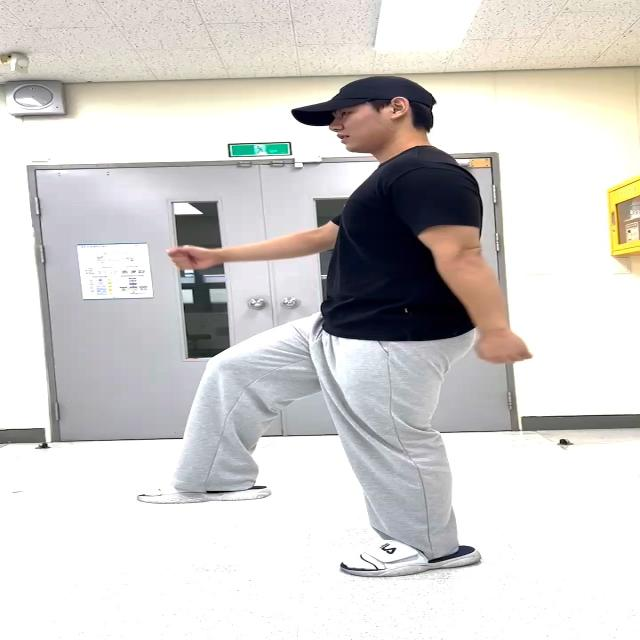leg: (155, 316, 319, 495)
